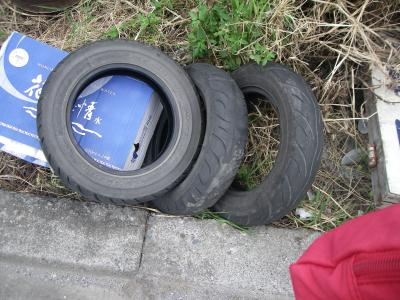tire: (34, 37, 206, 208), (215, 58, 327, 231)
